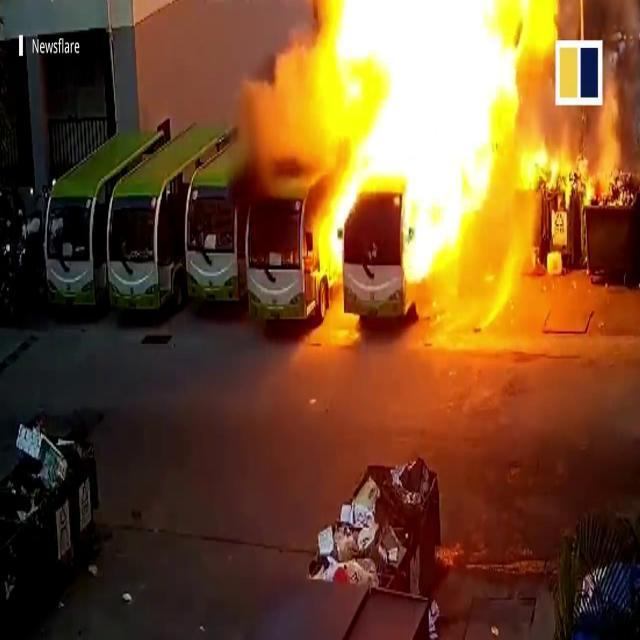Fire: (256, 0, 552, 341)
